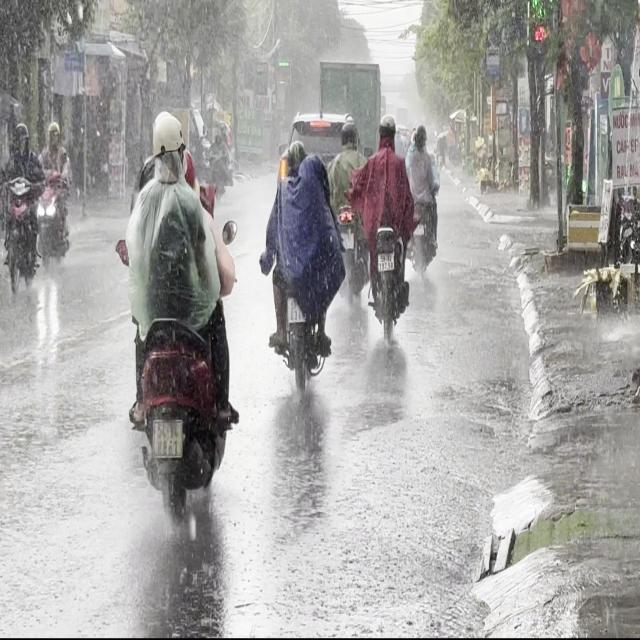helmet: (150, 111, 184, 179), (287, 139, 309, 174), (377, 111, 396, 147), (12, 122, 32, 156), (339, 119, 358, 149)
licenseplate: (115, 106, 241, 532), (261, 136, 345, 402), (359, 110, 414, 340), (2, 120, 44, 294)
nohelmet: (152, 420, 182, 456), (378, 251, 394, 269)
